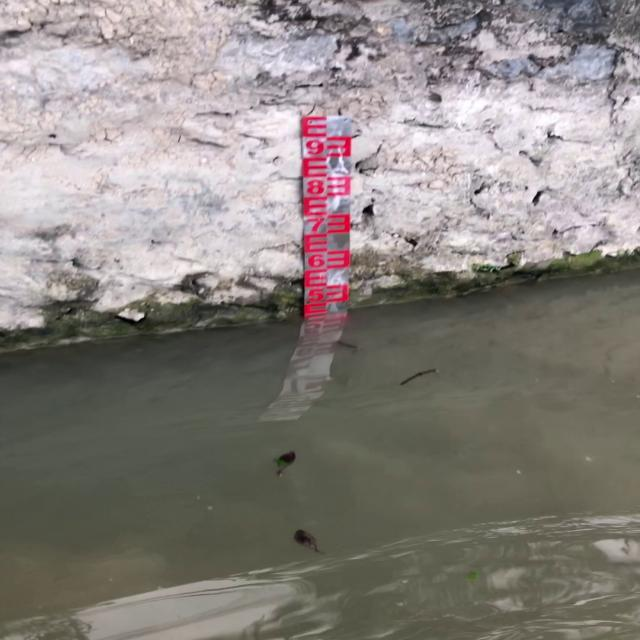ruler: (295, 108, 360, 314)
value: (300, 136, 328, 156), (302, 177, 327, 197), (303, 214, 328, 234), (304, 253, 329, 270), (305, 286, 327, 304)
